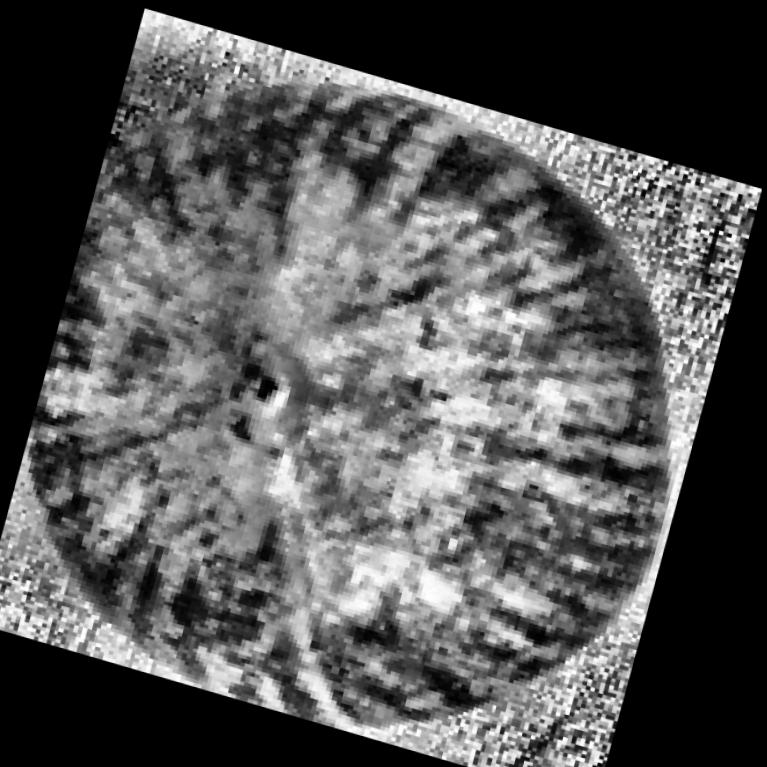damagedHazelnut: (0, 0, 763, 767)
